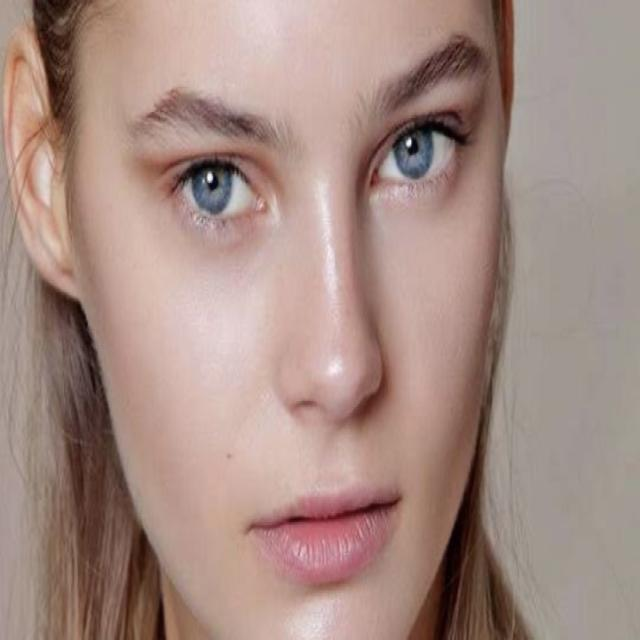Oily-Skin: (159, 284, 251, 478), (281, 226, 379, 400), (410, 256, 470, 510), (292, 509, 371, 640)
